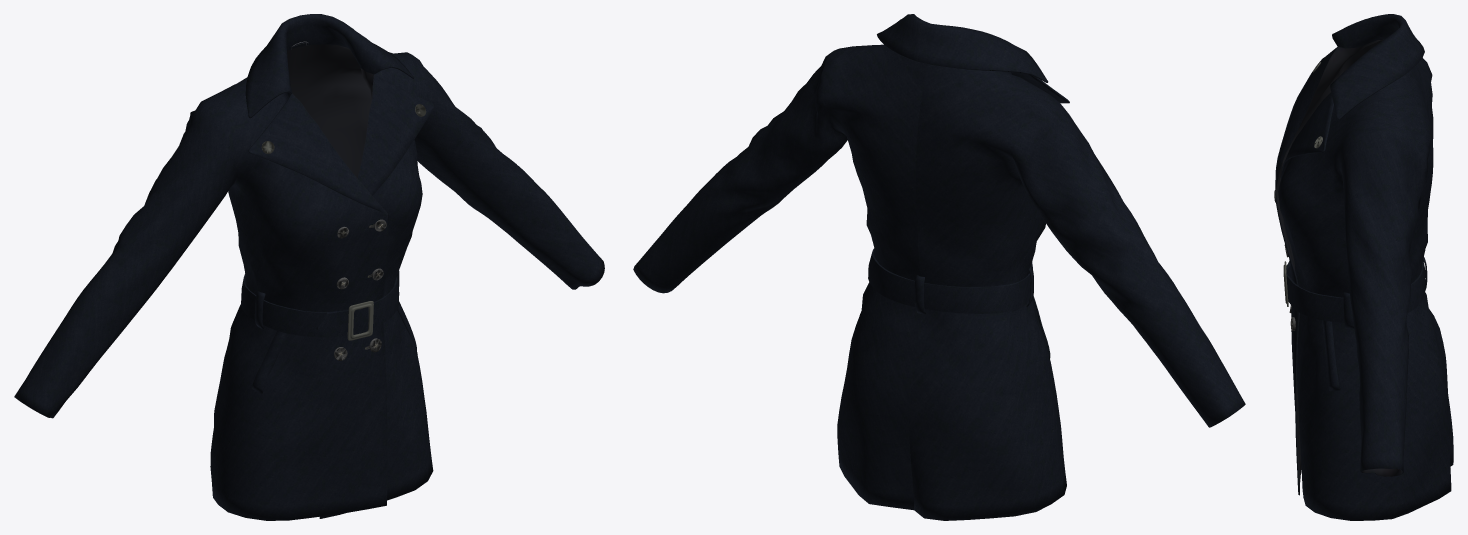
File: overcoat.glb
The picture shows the model from 3 angles, left to right: view 1: azimuth 30°, elevation 25°; view 2: azimuth 150°, elevation 25°; view 3: azimuth 270°, elevation 25°; orthographic projection. The views are drawn at different scales.
Parts seen in each view (by area): view 1: overcoat; view 2: overcoat; view 3: overcoat.
Boxes of the visible parts, box(x1,y1,x2,y2) form: overcoat: box(14, 14, 604, 520); overcoat: box(633, 14, 1245, 520); overcoat: box(1274, 14, 1453, 520).
Bounding box in the file's own units: 1.35 × 1.03 × 0.3655.
Materials: 1 (1 with a texture image).
